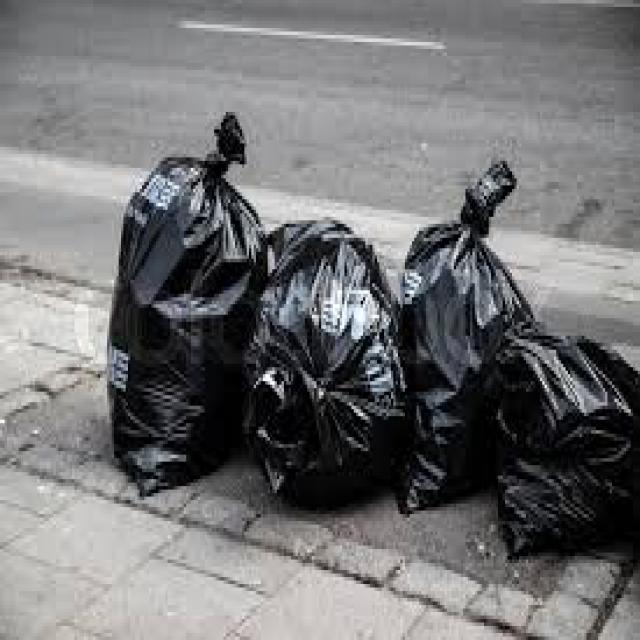plastic_bag: (108, 134, 259, 477), (262, 228, 399, 494), (401, 197, 512, 508), (508, 326, 640, 547)
